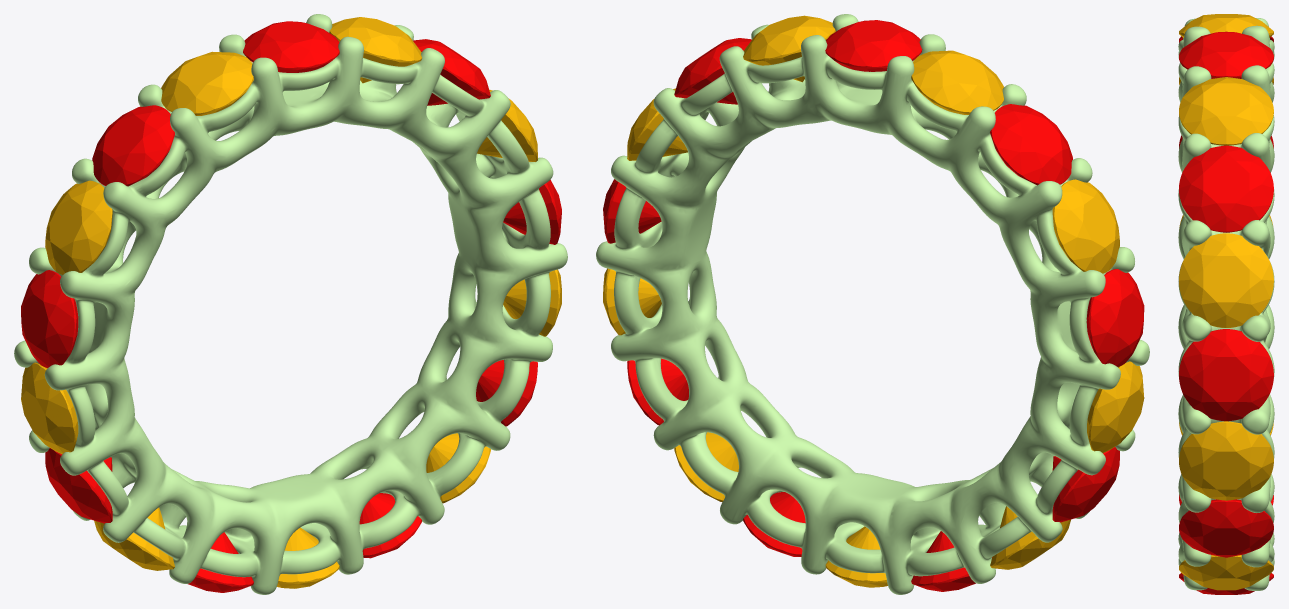
The model's file is TCC-RN-CR-32188-Round-Eternity-25.glb.
3 views of the same model, side by side, from view 1: azimuth 30°, elevation 25°; view 2: azimuth 150°, elevation 25°; view 3: azimuth 270°, elevation 25° (orthographic). The views are drawn at different scales.
Parts seen in each view (by area): view 1: Metal03, Diamond Band01.007, Diamond Band02.007, Diamond Band02.008, Diamond Band01.006, Diamond Band01.008, Diamond Band02.006, Diamond Band02, Diamond Band01.005, Diamond Band01, Diamond Band02.005, Diamond Band01.002 (+7 smaller); view 2: Metal03, Diamond Band01.007, Diamond Band02.007, Diamond Band02.008, Diamond Band01.006, Diamond Band01.008, Diamond Band02.006, Diamond Band02, Diamond Band01.005, Diamond Band01, Diamond Band02.005, Diamond Band01.002 (+7 smaller); view 3: Metal03, Diamond Band02.001, Diamond Band01.001, Diamond Band01, Diamond Band02.002, Diamond Band02, Diamond Band01.002, Diamond Band01.008, Diamond Band02.003, Diamond Band02.008, Diamond Band01.003.
Boxes of the visible parts, bbox=[...] form: Metal03: bbox=[14, 14, 567, 594]; Diamond Band01.007: bbox=[92, 105, 174, 186]; Diamond Band02.007: bbox=[45, 180, 112, 274]; Diamond Band02.008: bbox=[161, 51, 253, 115]; Diamond Band01.006: bbox=[21, 270, 78, 368]; Diamond Band01.008: bbox=[243, 21, 339, 72]; Diamond Band02.006: bbox=[21, 362, 78, 454]; Diamond Band02: bbox=[329, 17, 421, 83]; Diamond Band01.005: bbox=[45, 448, 112, 523]; Diamond Band01: bbox=[413, 39, 490, 105]; Diamond Band02.005: bbox=[94, 507, 174, 570]; Diamond Band01.002: bbox=[476, 360, 537, 426]; Metal03: bbox=[596, 14, 1149, 594]; Diamond Band01.007: bbox=[990, 104, 1072, 185]; Diamond Band02.007: bbox=[1052, 179, 1119, 273]; Diamond Band02.008: bbox=[911, 50, 1003, 114]; Diamond Band01.006: bbox=[1086, 269, 1144, 366]; Diamond Band01.008: bbox=[825, 20, 922, 71]; Diamond Band02.006: bbox=[1087, 361, 1144, 452]; Diamond Band02: bbox=[743, 15, 835, 82]; Diamond Band01.005: bbox=[1052, 447, 1119, 522]; Diamond Band01: bbox=[674, 38, 751, 104]; Diamond Band02.005: bbox=[990, 506, 1070, 569]; Diamond Band01.002: bbox=[627, 358, 688, 425]; Metal03: bbox=[1178, 18, 1274, 590]; Diamond Band02.001: bbox=[1179, 233, 1273, 327]; Diamond Band01.001: bbox=[1179, 329, 1273, 421]; Diamond Band01: bbox=[1179, 145, 1273, 232]; Diamond Band02.002: bbox=[1179, 421, 1273, 500]; Diamond Band02: bbox=[1179, 77, 1273, 145]; Diamond Band01.002: bbox=[1179, 499, 1273, 557]; Diamond Band01.008: bbox=[1179, 31, 1273, 78]; Diamond Band02.003: bbox=[1179, 555, 1273, 590]; Diamond Band02.008: bbox=[1179, 14, 1273, 37]; Diamond Band01.003: bbox=[1179, 573, 1273, 594].
Bounding box in the file's own units: 25.57 × 25.61 × 4.25.
